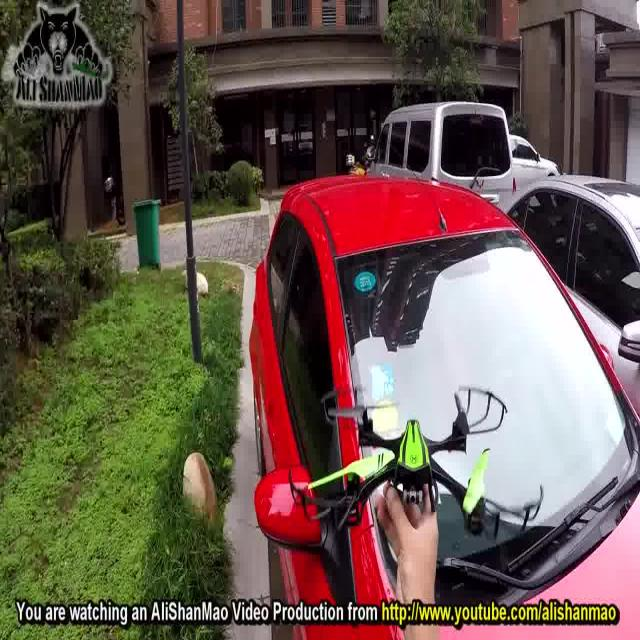drones: (284, 368, 531, 543)
